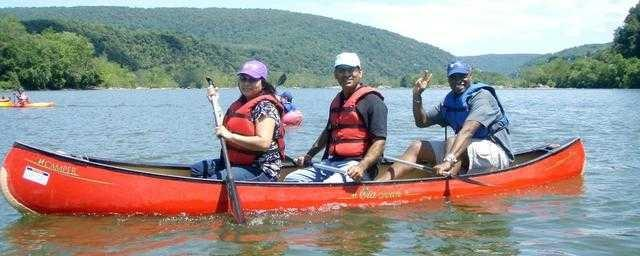kayak: (3, 137, 607, 220), (0, 97, 57, 109), (0, 96, 13, 107)
